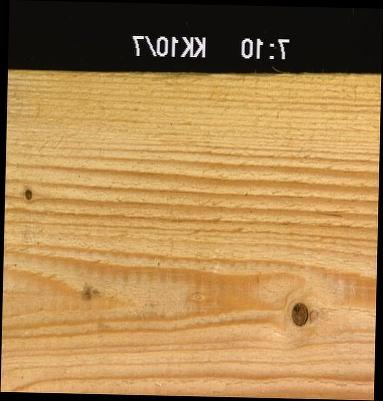dry_knot: (290, 300, 310, 326), (24, 186, 33, 201)
